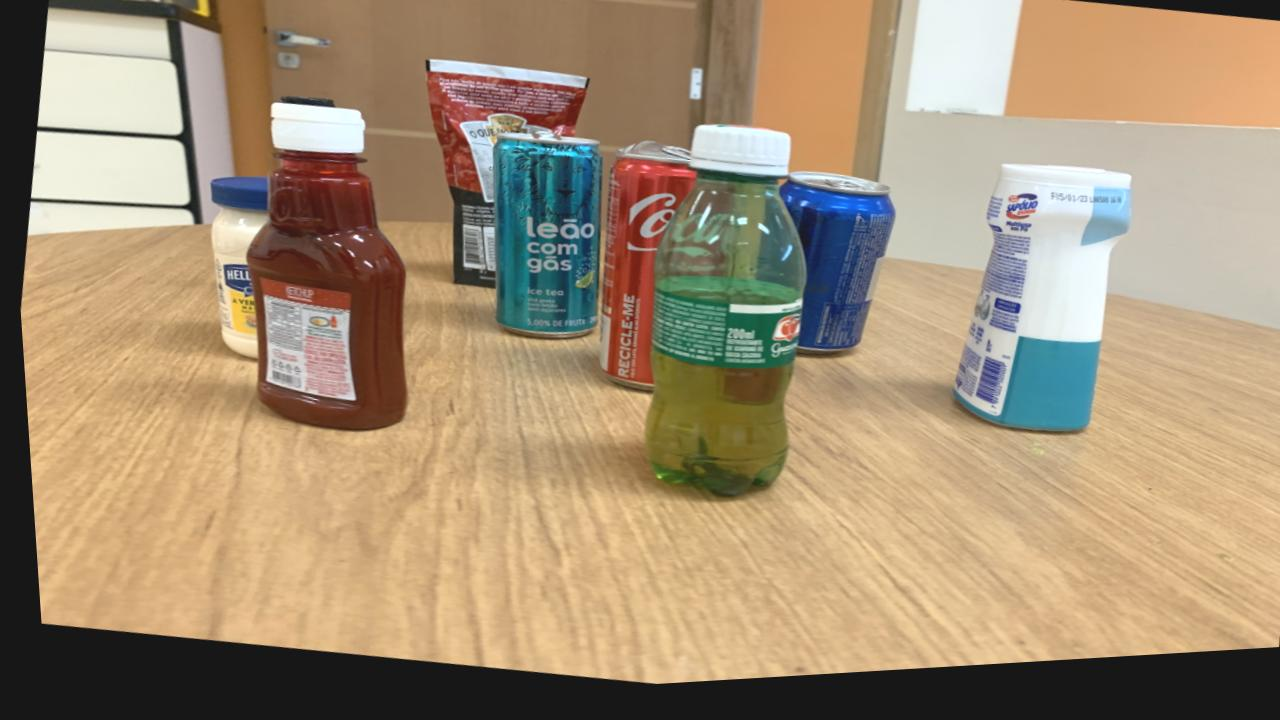Cleaner-Cleanup_Items: (946, 176, 1128, 444)
Coke-Drinks: (593, 149, 692, 396)
Guarana-Drinks: (639, 132, 802, 504)
Ketchup-Pantry_Items: (243, 100, 401, 434)
Mayonnaise-Pantry_Items: (207, 178, 266, 361)
Tea-Drinks: (490, 135, 600, 345)
Tomato_Sauce-Pantry_Items: (424, 64, 586, 292)
Tonic-Drinks: (776, 181, 892, 363)
